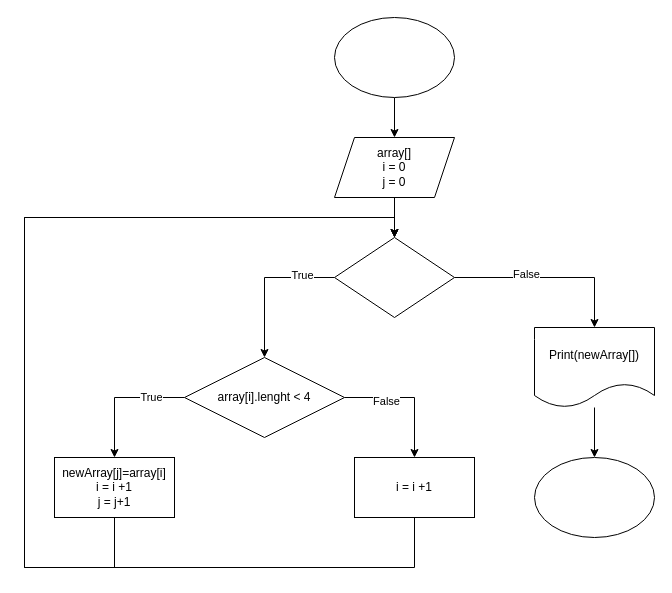
This 672x593 diagram has some shape labels left out. The box of each missing label's shape, as (x1, y1, x2, y2) in pixels:
Finish: (534, 456, 654, 538)
i < array[] size: (334, 236, 454, 318)
Start: (334, 16, 454, 98)
